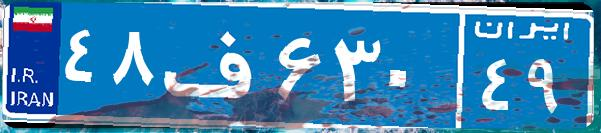0: (385, 28, 445, 110)
3: (330, 28, 385, 110)
4: (57, 26, 110, 107), (475, 38, 525, 113)
6: (273, 28, 330, 110)
8: (110, 28, 158, 105)
9: (525, 38, 570, 115)
ف: (158, 15, 273, 115)
